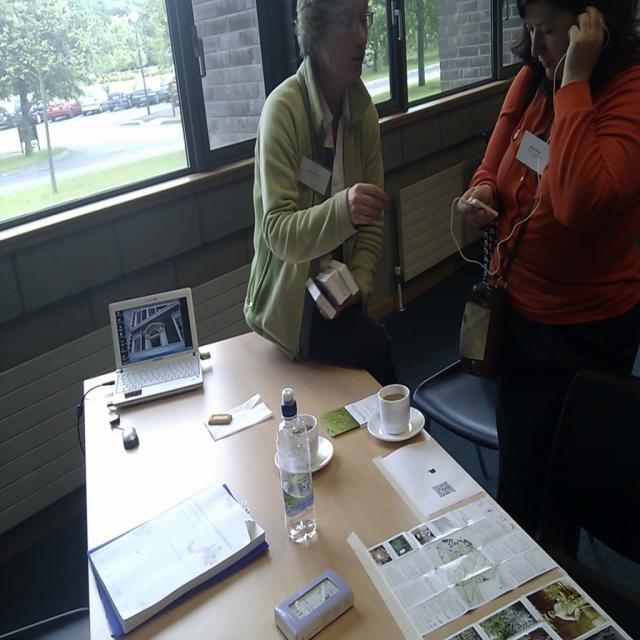chair: (535, 367, 640, 630)
desk: (82, 381, 630, 640)
laptop: (90, 480, 270, 636), (108, 285, 204, 407)
mouse: (122, 425, 140, 450)
person: (479, 4, 640, 533), (245, 1, 398, 383)
